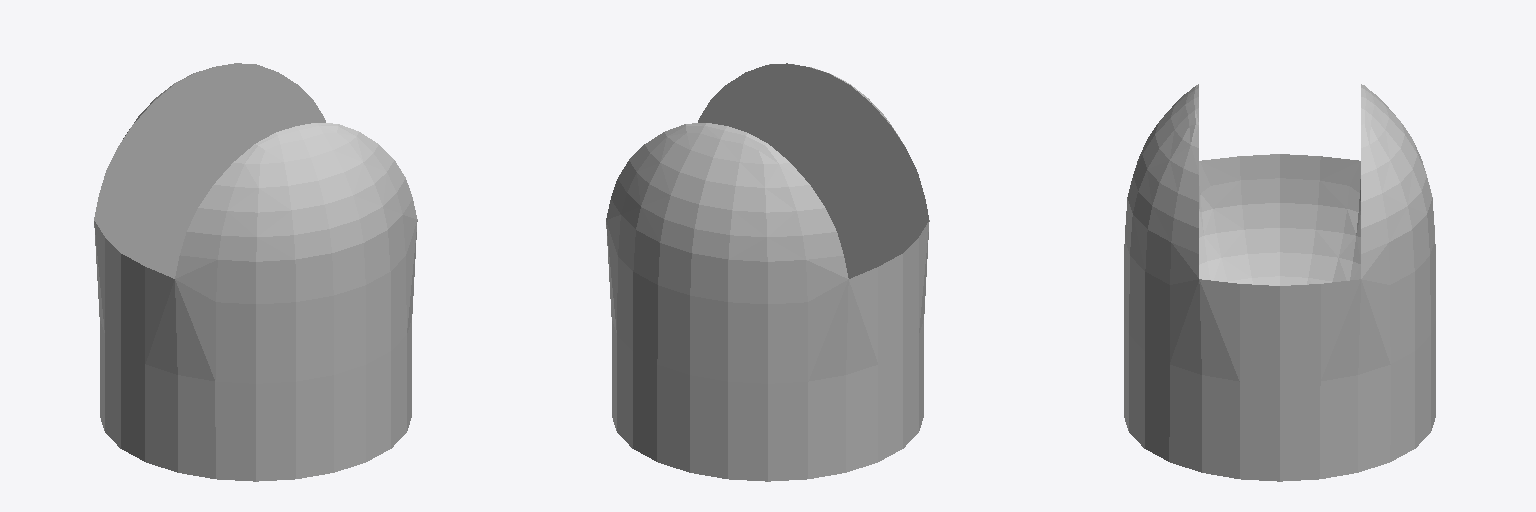
File: Tr-LeverBaseX.obj
The picture shows the model from 3 angles: view 1: azimuth 30°, elevation 25°; view 2: azimuth 150°, elevation 25°; view 3: azimuth 270°, elevation 25°; orthographic projection.
Parts seen in each view (by area): view 1: Tr-LeverBaseX_BaseLevier.005; view 2: Tr-LeverBaseX_BaseLevier.005; view 3: Tr-LeverBaseX_BaseLevier.005.
Part boxes in pixels (x1,y1,x2,y2): Tr-LeverBaseX_BaseLevier.005: (94,63,417,481); Tr-LeverBaseX_BaseLevier.005: (606,63,929,481); Tr-LeverBaseX_BaseLevier.005: (1124,84,1435,481).
Size of the model in its own units: 0.0725 by 0.0816 by 0.0725.